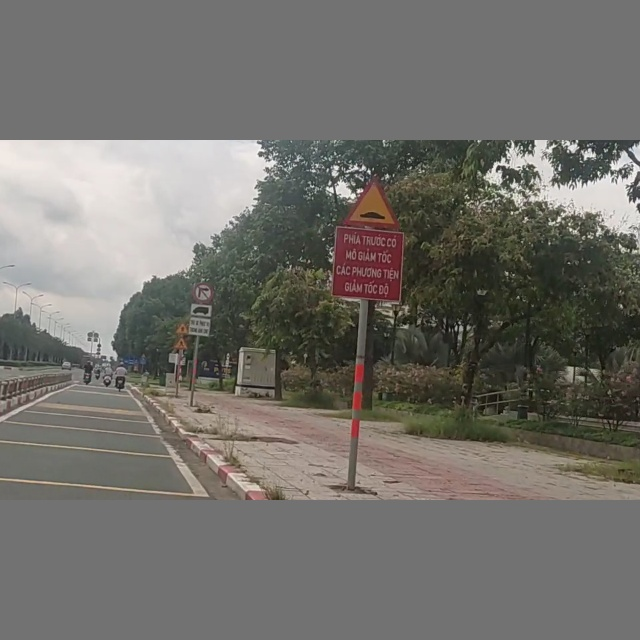P.123b: (193, 283, 214, 301)
S.505a*Xe tai: (189, 302, 211, 337)
W.207: (175, 323, 188, 335)
W.221b: (341, 174, 402, 229)
W.224: (173, 338, 188, 349)
